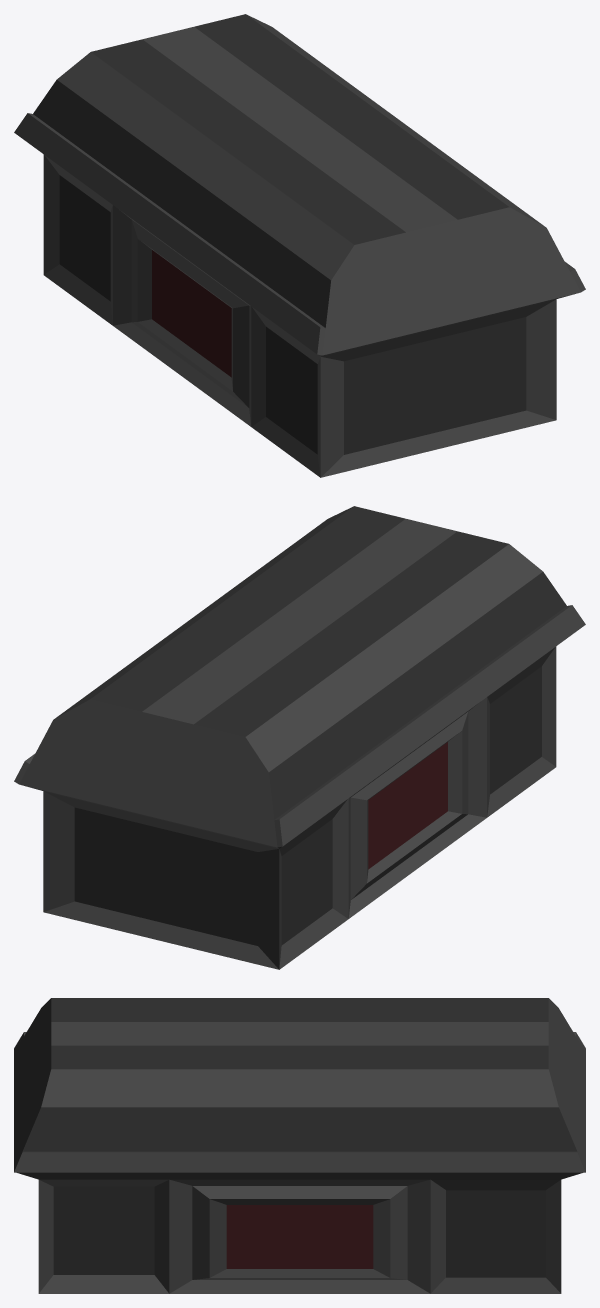
The model's file is Tumba2.fbx.
3 renders of one model, top to bottom at view 1: azimuth 30°, elevation 25°; view 2: azimuth 150°, elevation 25°; view 3: azimuth 270°, elevation 25°, orthographic. The views are drawn at different scales.
Visible parts, largest first — view 1: Tumba2; view 2: Tumba2; view 3: Tumba2.
Boxes of the visible parts, <box> form: Tumba2: <box>14,14,585,477</box>; Tumba2: <box>14,506,585,969</box>; Tumba2: <box>14,998,585,1293</box>.
Size of the model in its own units: 327 by 254 by 640.
